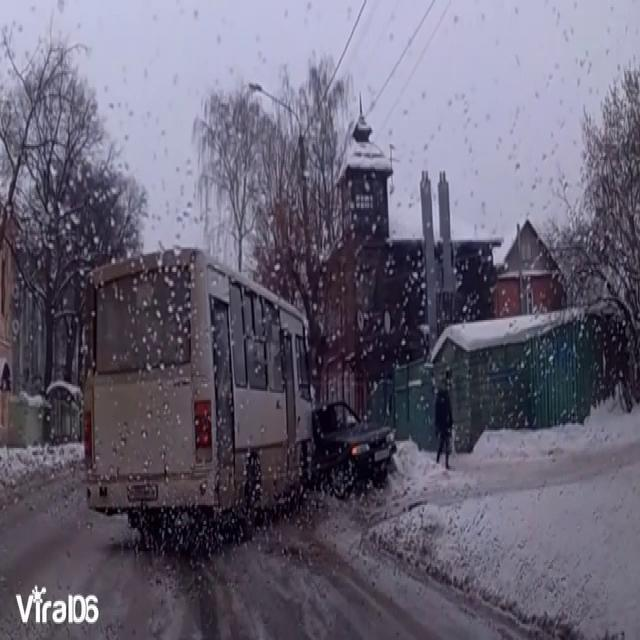moderate: (78, 242, 402, 530)
